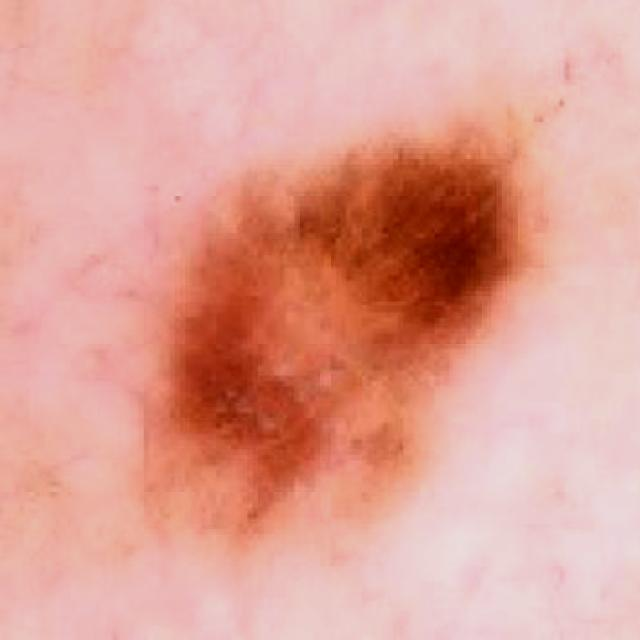AKIEC: (33, 9, 571, 615)
